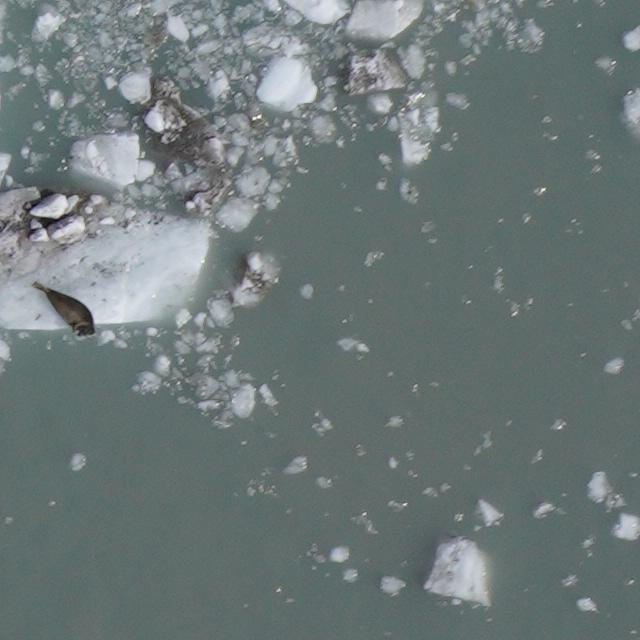seal: (29, 269, 104, 344)
